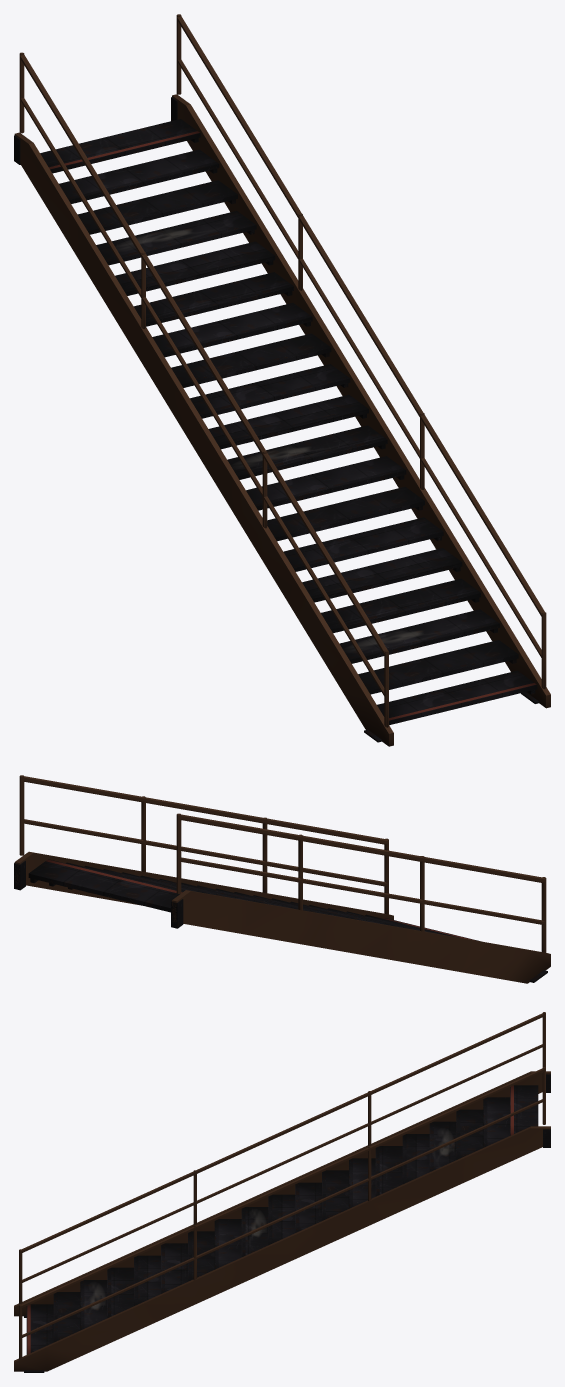
File: stair_flight.glb
The picture shows the model from 3 angles, top to bottom: view 1: azimuth 30°, elevation 25°; view 2: azimuth 150°, elevation 25°; view 3: azimuth 270°, elevation 25°; orthographic projection. The views are drawn at different scales.
Visible parts, largest first — view 1: body, decals; view 2: body; view 3: body, decals.
Boxes of the visible parts, bbox=[...] form: body: bbox=[14, 14, 550, 746]; decals: bbox=[119, 229, 422, 650]; body: bbox=[14, 775, 550, 983]; body: bbox=[14, 1012, 550, 1372]; decals: bbox=[90, 1130, 453, 1309].
Size of what is drawn, in the model's own units: 2.1 by 4.98 by 8.
5 materials, 3 textured.
